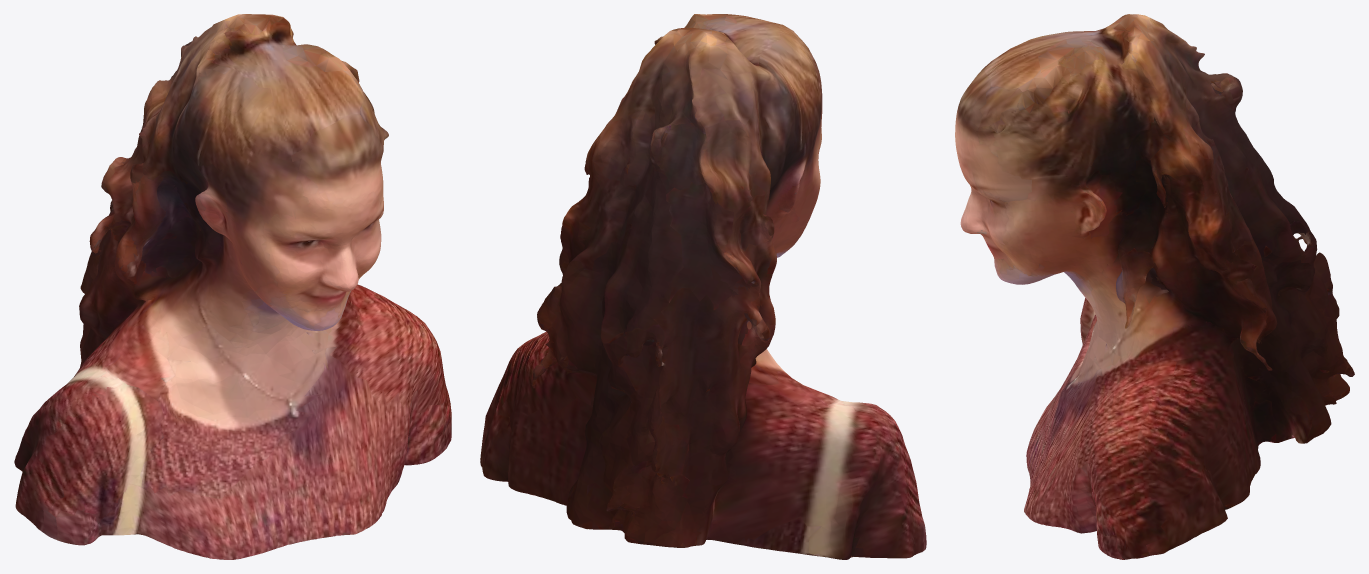
File: 真人头像_女_青年01_opt_0819.glb
3 views of the same model, side by side, from view 1: azimuth 30°, elevation 25°; view 2: azimuth 150°, elevation 25°; view 3: azimuth 270°, elevation 25° (orthographic). The views are drawn at different scales.
Parts seen in each view (by area): view 1: Object_2; view 2: Object_2; view 3: Object_2.
Part boxes in pixels (x1=…): Object_2: x1=14, y1=14, x2=451, y2=559; Object_2: x1=480, y1=14, x2=926, y2=559; Object_2: x1=955, y1=14, x2=1354, y2=559.
Size of the model in its own units: 0.2693 by 0.3 by 0.2312.
Materials: 1 (1 with a texture image).
